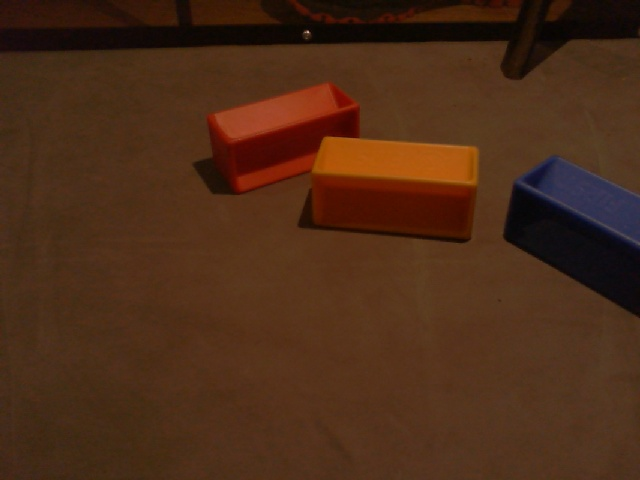BlueSample: (502, 153, 640, 320)
RedSample: (203, 80, 364, 197)
YellowSample: (310, 131, 479, 243)
